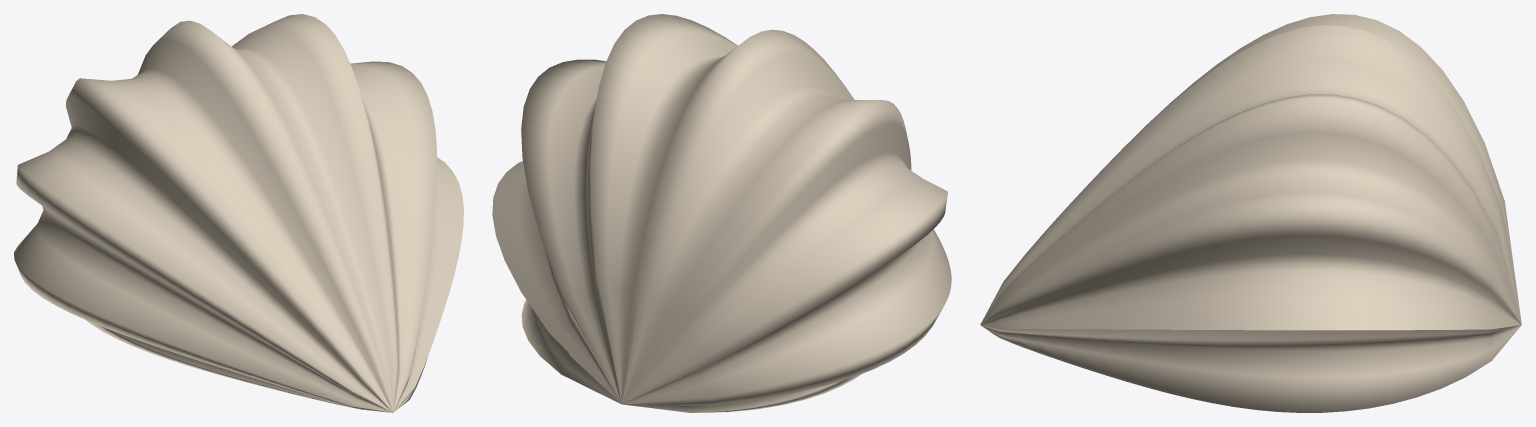
File: shell.glb
3 views of the same model, side by side, from view 1: azimuth 30°, elevation 25°; view 2: azimuth 150°, elevation 25°; view 3: azimuth 270°, elevation 25° (orthographic). The views are drawn at different scales.
Bounding box in the file's own units: 0.2275 × 0.1509 × 0.257.
